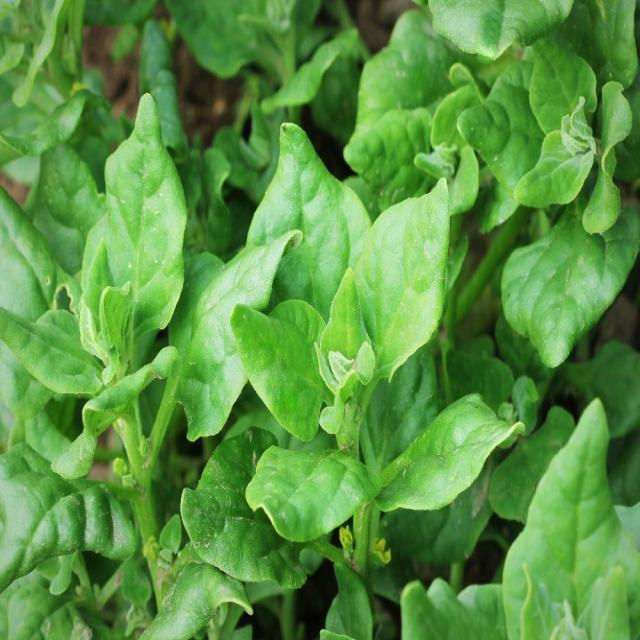spinach: (222, 98, 469, 479), (482, 18, 640, 378), (62, 79, 201, 422), (2, 430, 159, 605)
